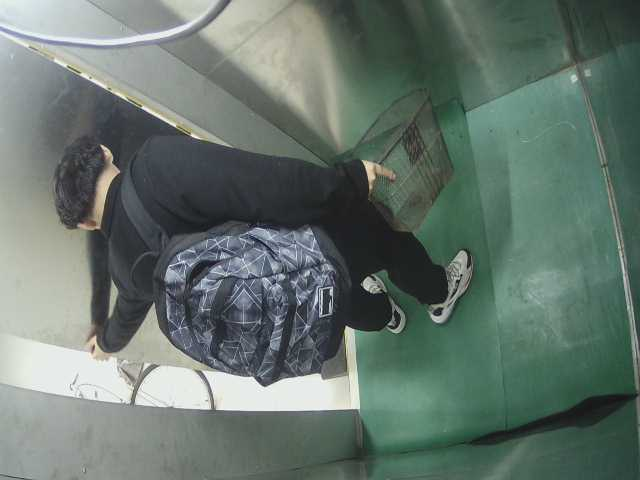person: (50, 135, 478, 375)
